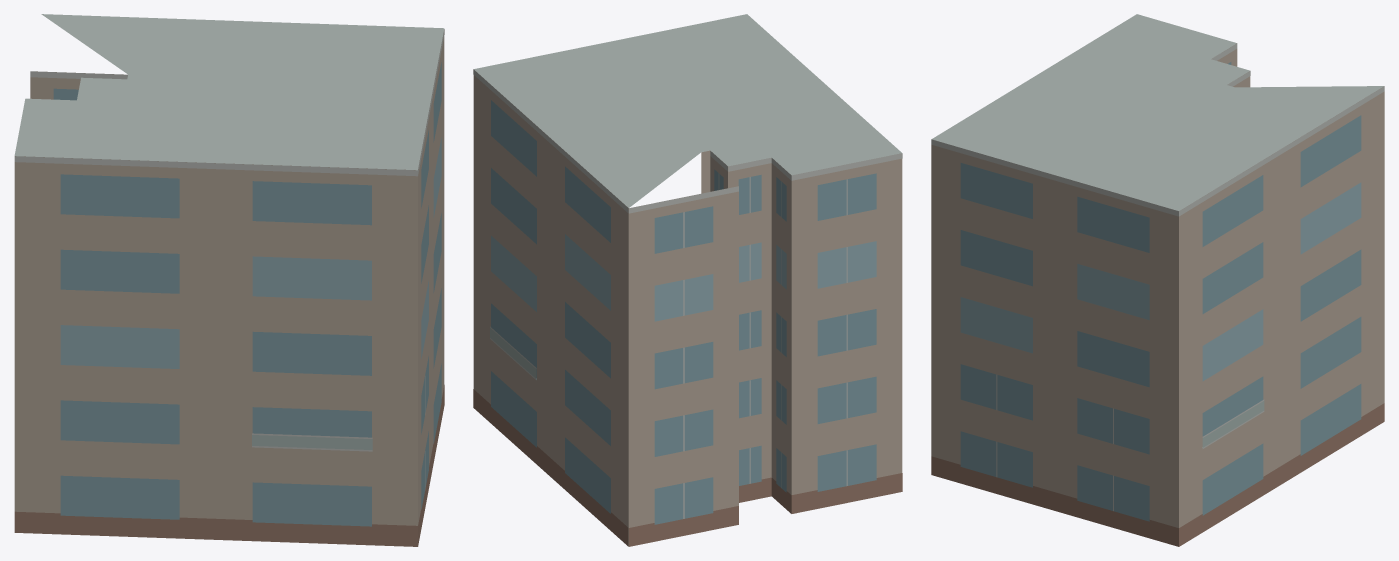
Rendered from survey-upis-32906074.glb.
3 views of the same model, side by side, from view 1: azimuth 30°, elevation 25°; view 2: azimuth 150°, elevation 25°; view 3: azimuth 270°, elevation 25° (orthographic). The views are drawn at different scales.
Parts seen in each view (by area): view 1: survey-upis-32906074.tmp; view 2: survey-upis-32906074.tmp; view 3: survey-upis-32906074.tmp.
Boxes of the visible parts, left/top/right/bottom form: survey-upis-32906074.tmp: left=14, top=14, right=444, bottom=546; survey-upis-32906074.tmp: left=473, top=14, right=902, bottom=546; survey-upis-32906074.tmp: left=931, top=14, right=1384, bottom=546.
Size of the model in its own units: 19.22 by 15.25 by 18.67.
